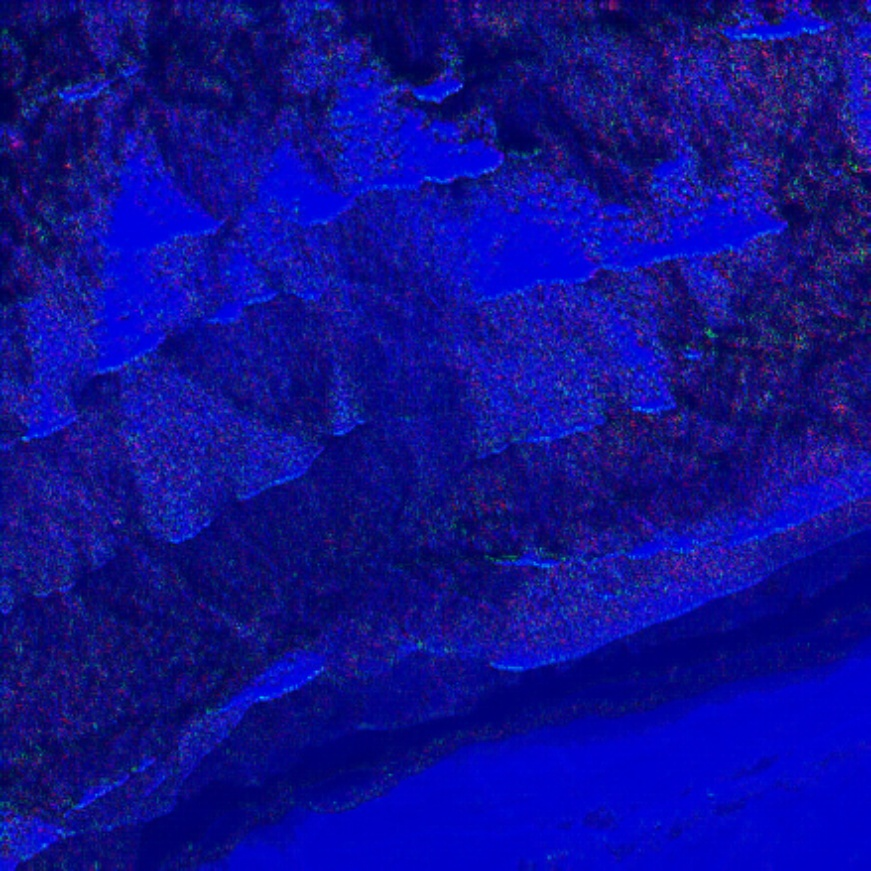rip_current: (207, 224, 584, 696)
